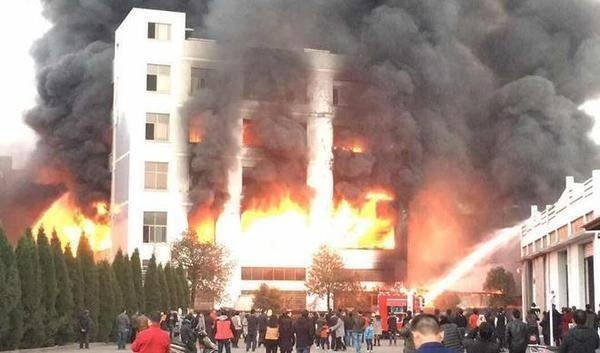fire: (216, 186, 395, 254), (29, 195, 117, 257), (191, 204, 216, 245)
